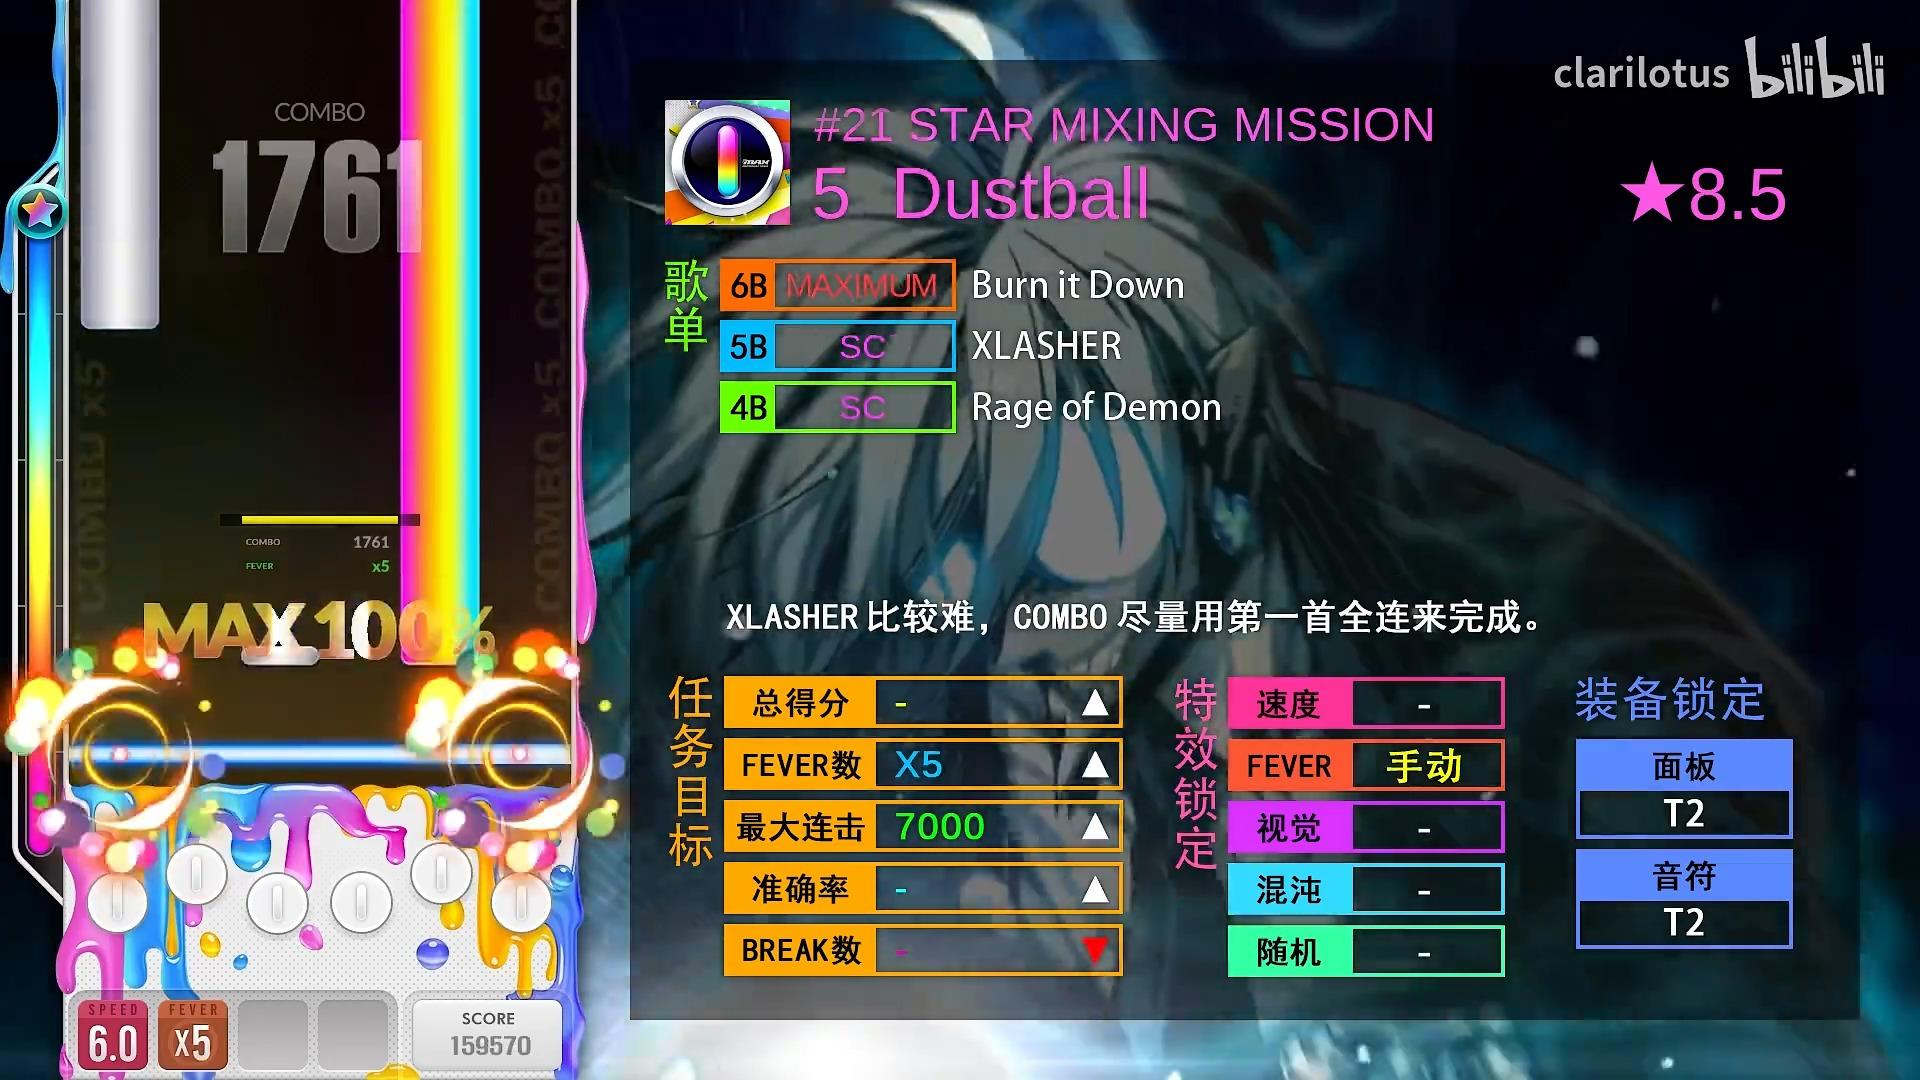hold-start: (80, 311, 160, 330), (401, 650, 480, 665)
